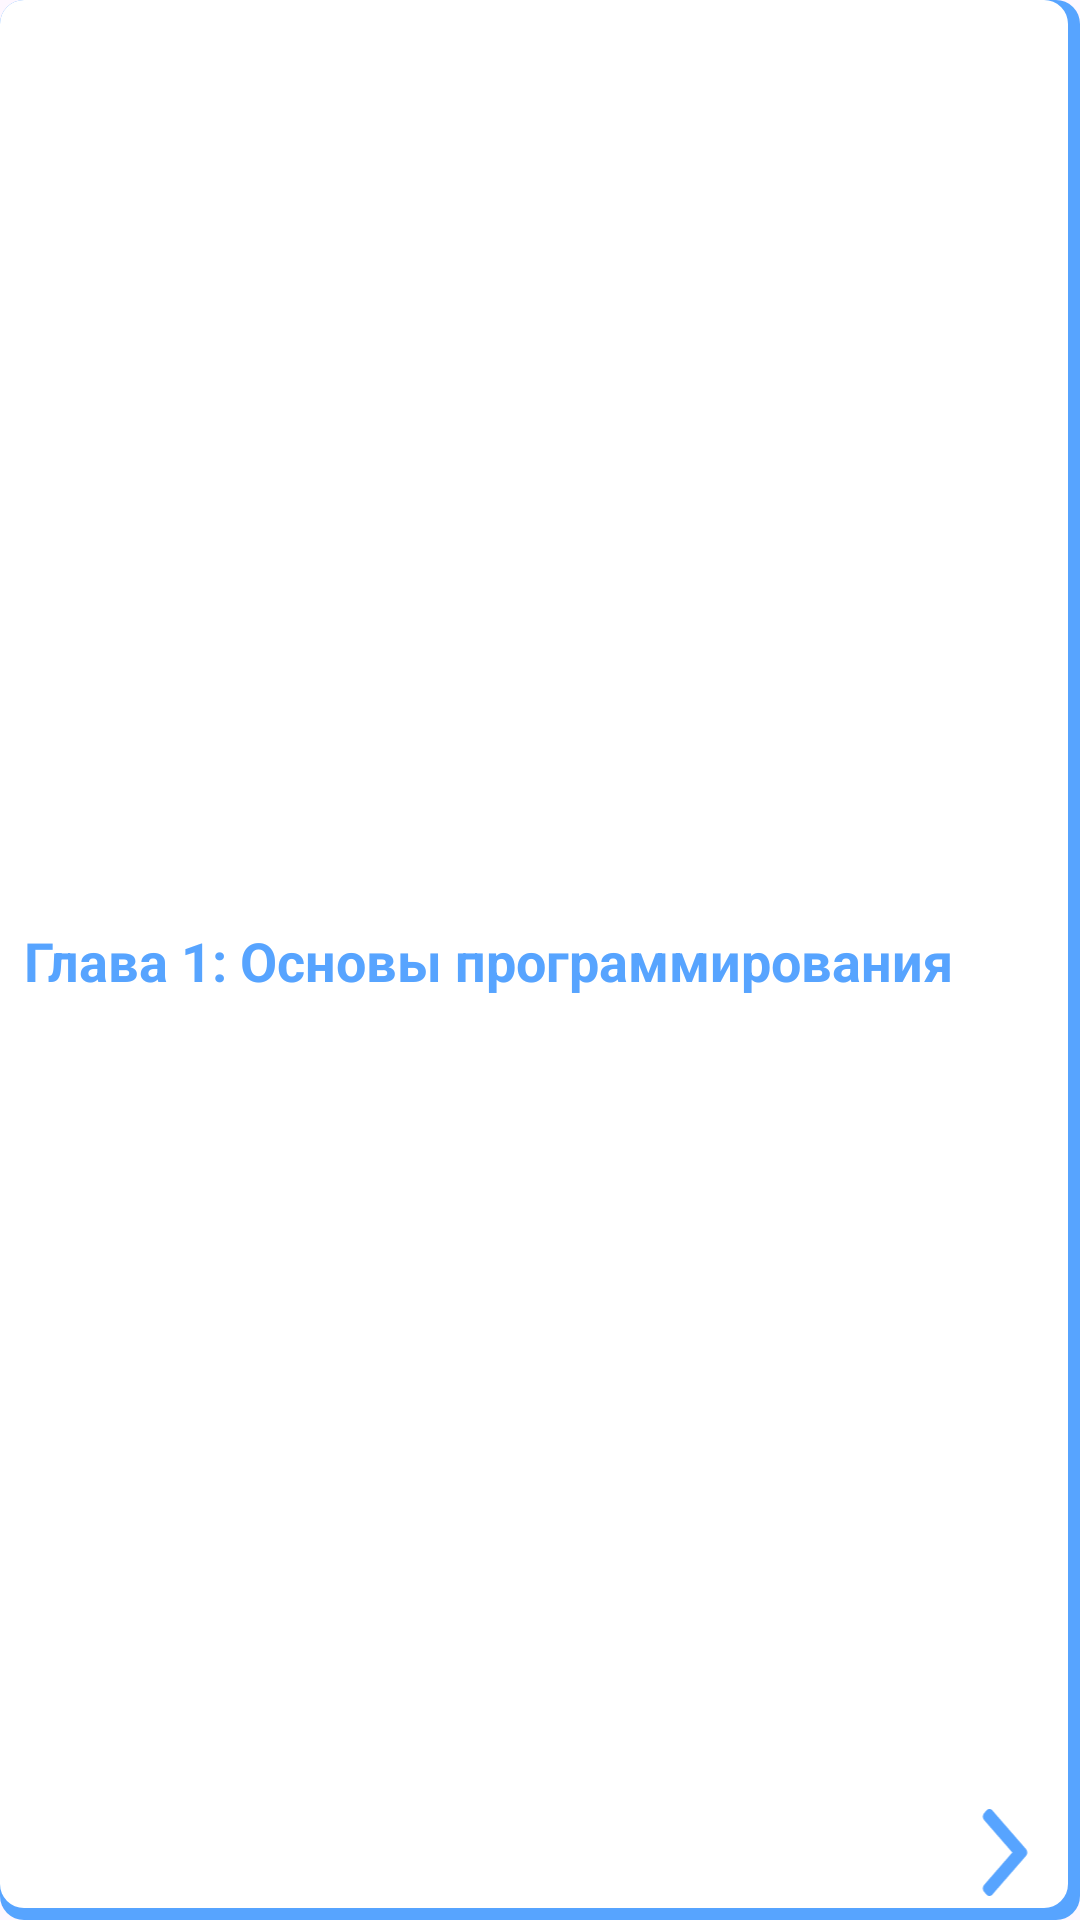

Locate icon controls on the screen. Image size 1080 × 1920, boxes as (x1=x1, y1=y1, x2=x2, y2=y2).
arrow right: (x1=982, y1=1809, x2=1028, y2=1896)
